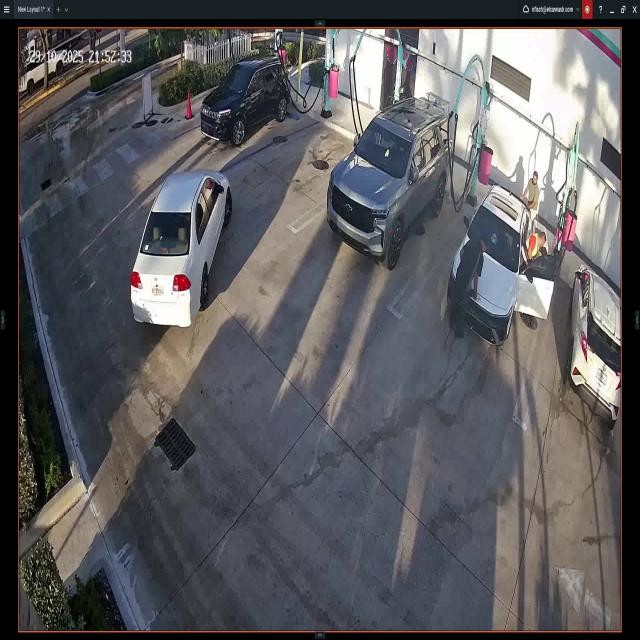Car: (329, 95, 448, 266), (451, 188, 556, 346), (134, 176, 232, 330), (570, 268, 620, 422), (202, 54, 288, 142)
